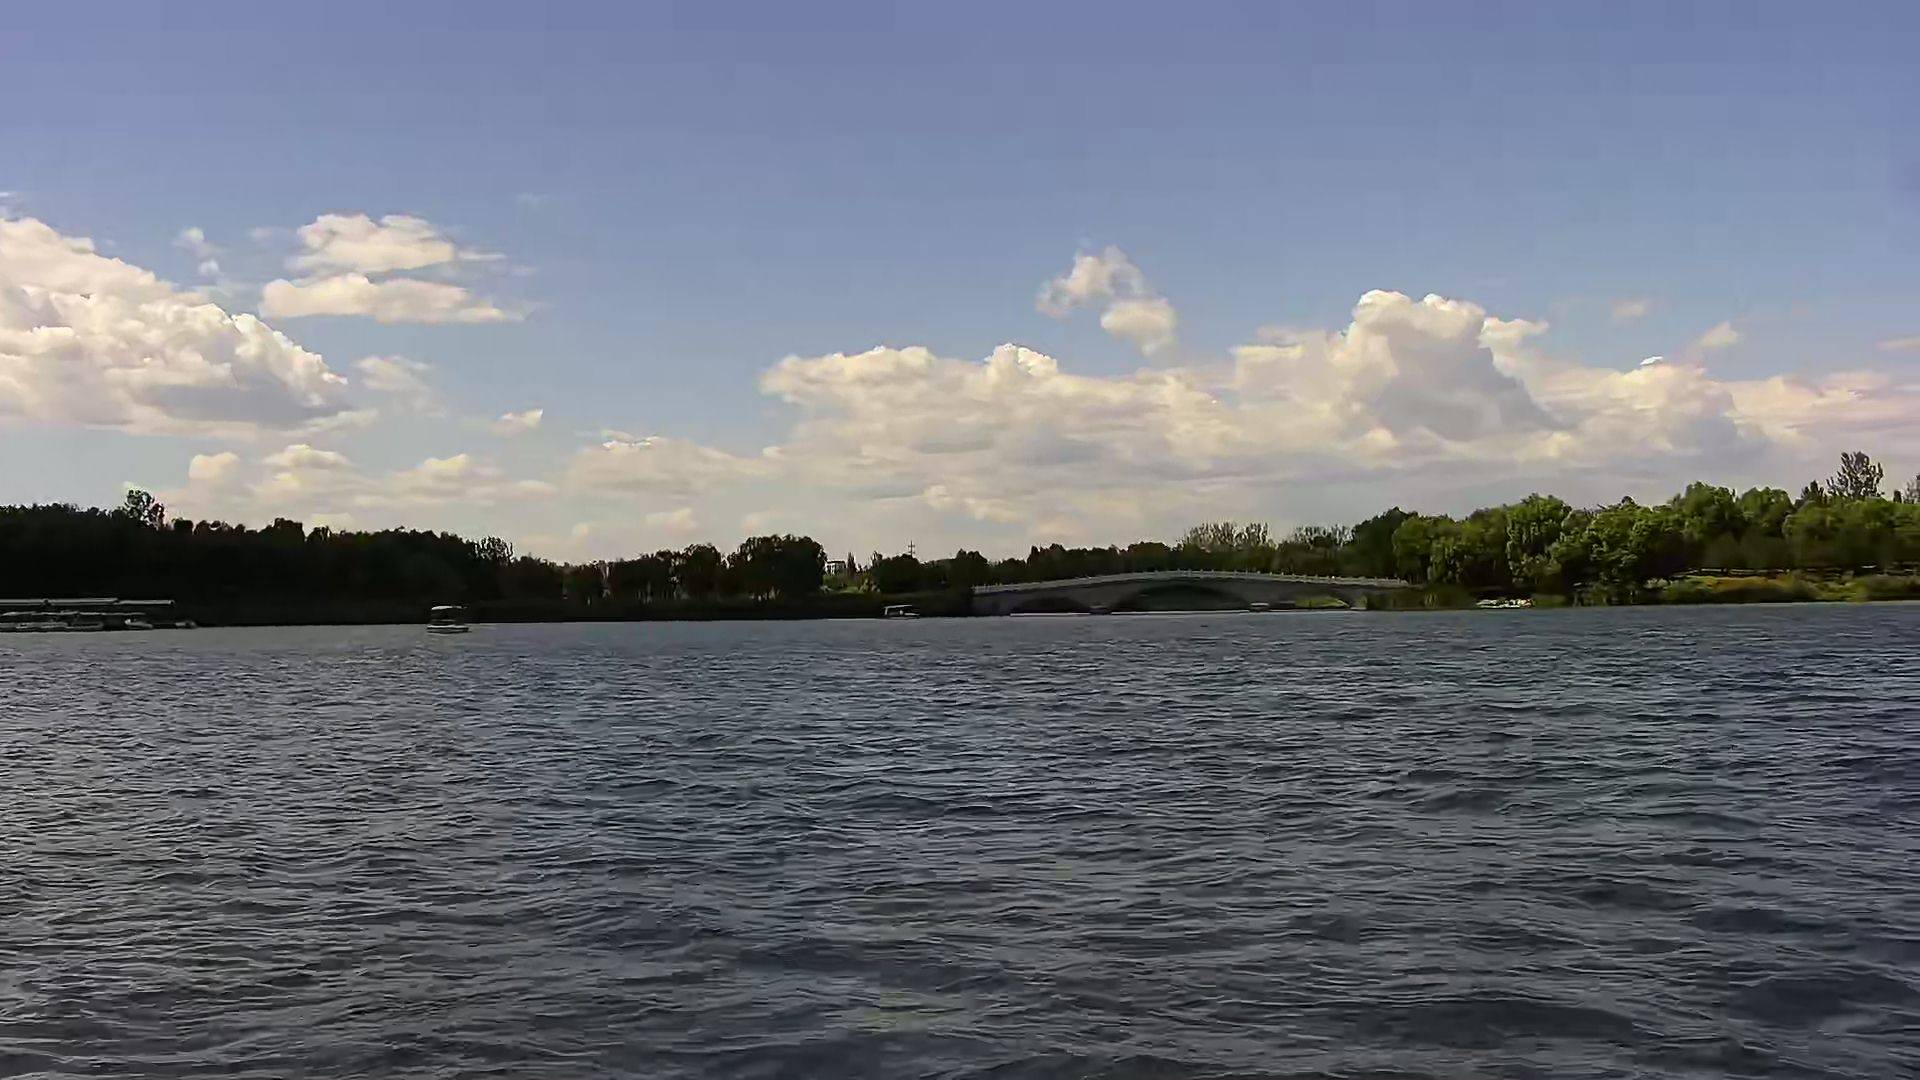boat: (426, 600, 476, 640)
bridge: (971, 575, 1445, 615)
harbor: (1, 592, 183, 641)
